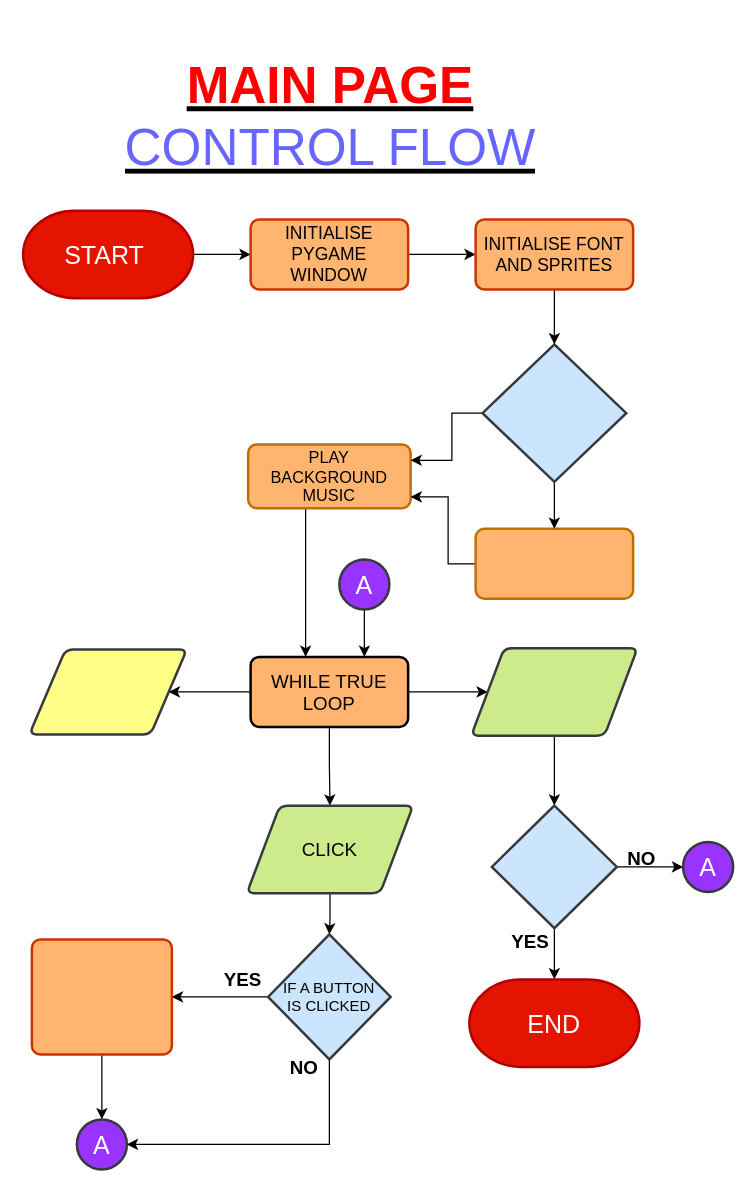
The diagram is 755 pixels wide and 1191 high, and some of its shapes have lost their labels. The centre of each missing label's shape, as x and y in pixels:
CREATE MYSQL DATABASE AND TABLE: point (554, 563)
DISPLAY SPRITES & BUTTONS: point (108, 691)
EXECUTE REQUIRED MODULE: point (101, 996)
IF MYSQLL DATABASE AND TABLE ARE PRESENT: point (554, 412)
IF QUIT BUTTON IS PRESSED: point (554, 866)
QUIT BUTTON: point (553, 691)
